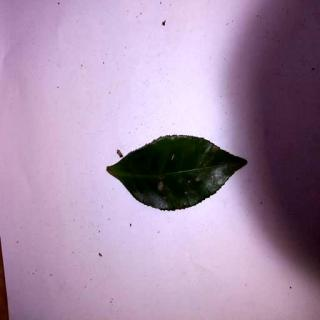Anthracnose: (107, 134, 248, 211)
